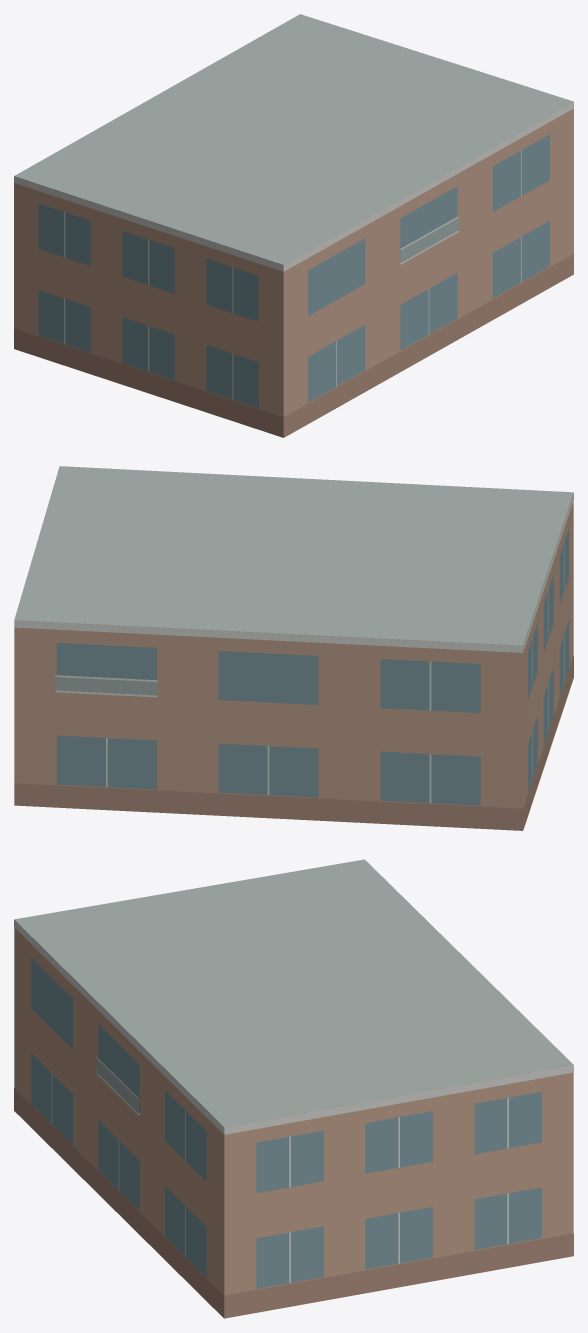
The model's file is survey-upis-32866164.glb.
3 views of the same model, one above another, from view 1: azimuth 30°, elevation 25°; view 2: azimuth 150°, elevation 25°; view 3: azimuth 270°, elevation 25° (orthographic). The views are drawn at different scales.
Parts seen in each view (by area): view 1: survey-upis-32866164.tmp; view 2: survey-upis-32866164.tmp; view 3: survey-upis-32866164.tmp.
Boxes of the visible parts, bbox=[...] form: survey-upis-32866164.tmp: bbox=[14, 14, 573, 437]; survey-upis-32866164.tmp: bbox=[14, 466, 573, 830]; survey-upis-32866164.tmp: bbox=[14, 859, 573, 1318].
Size of the model in its own units: 18.33 by 6.1 by 16.18.
